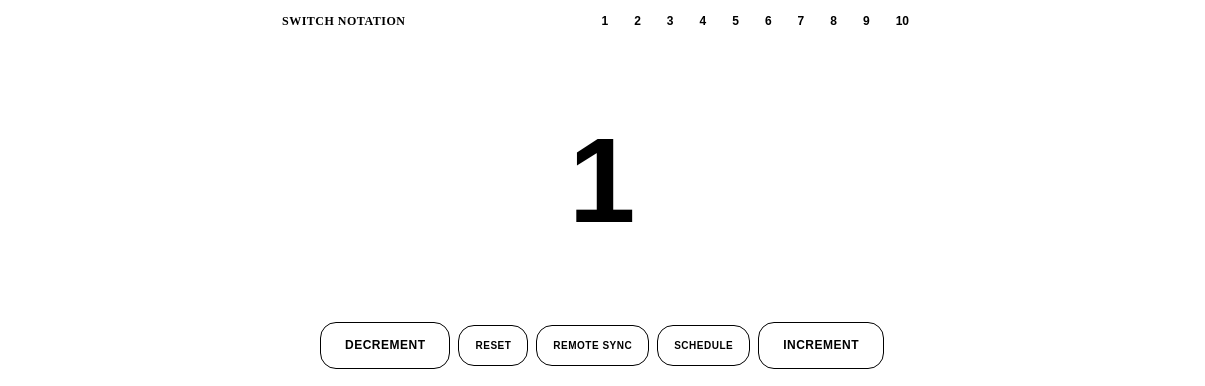
Scenario: Counter › should decrement value
The width and height of the screenshot is (1205, 386).
What coordinates should you click on to do the following:
click the button "Increment"
I would click on:
 (821, 346)
Its box is [758,322,884,369].
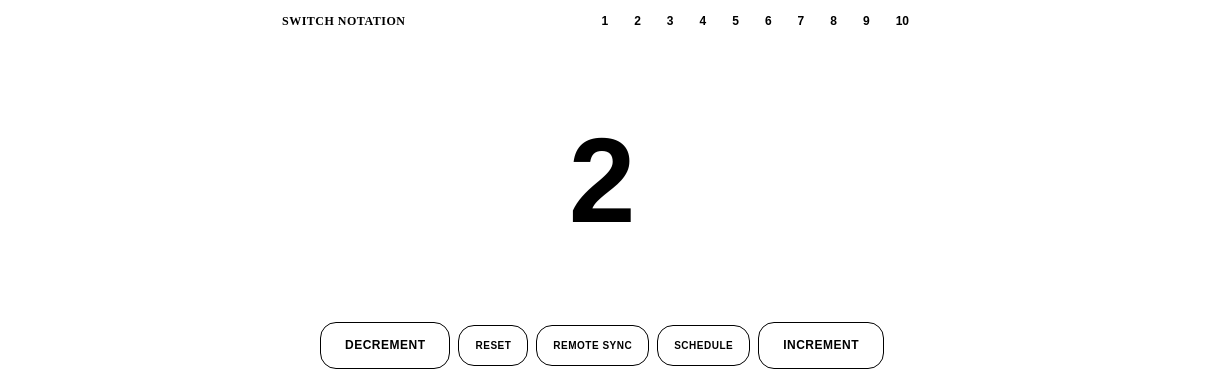
What coordinates should you click on to do the following:
click the button "Increment"
I would click on:
 (821, 346)
Its box is [758,322,884,369].
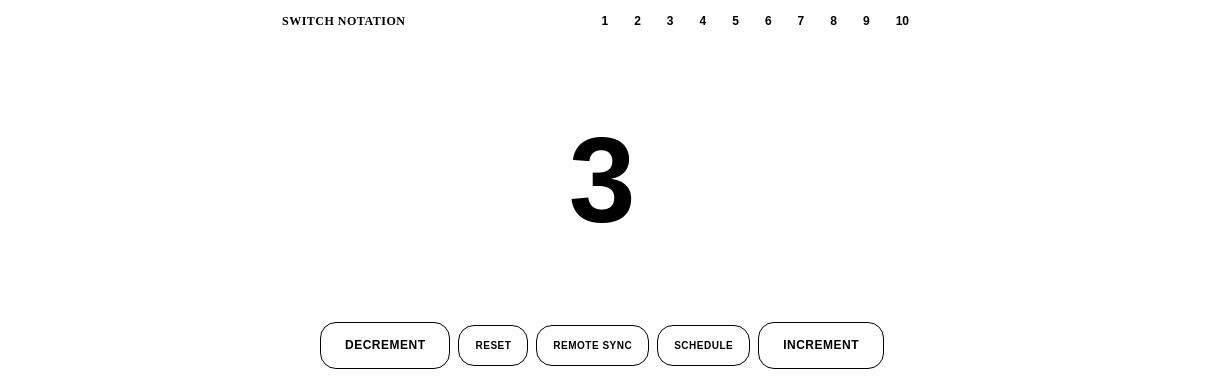
What coordinates should you click on to do the following:
click the button "Decrement"
I would click on:
 (386, 346)
Its box is [320,322,451,369].
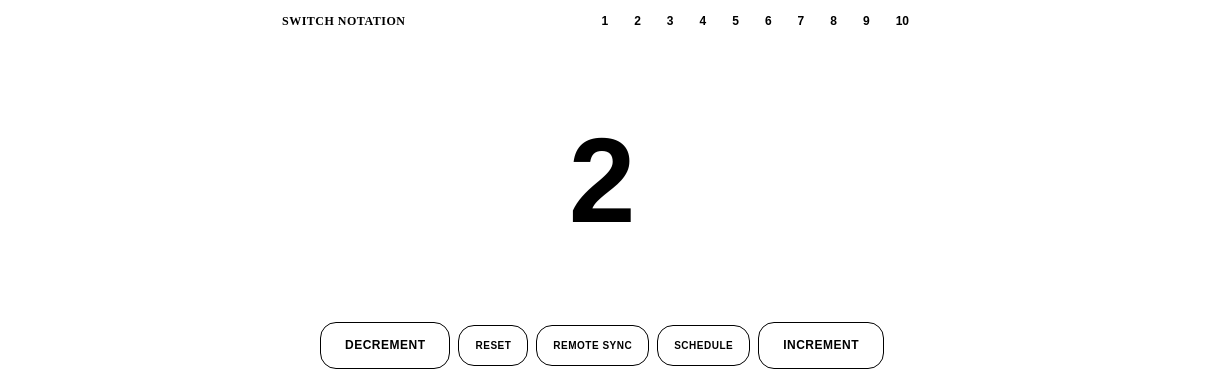
Expected: the number field named "counter-value" holds "2", [16,94,1188,266]
